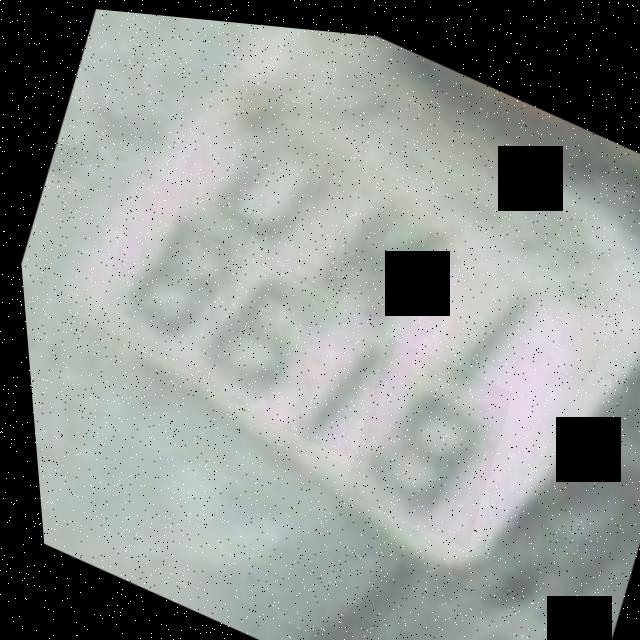1: (268, 293, 401, 461)
6: (171, 221, 351, 436)
8: (325, 326, 518, 544)
B: (78, 162, 264, 381)
K: (275, 136, 477, 347)
U: (159, 59, 381, 291)
